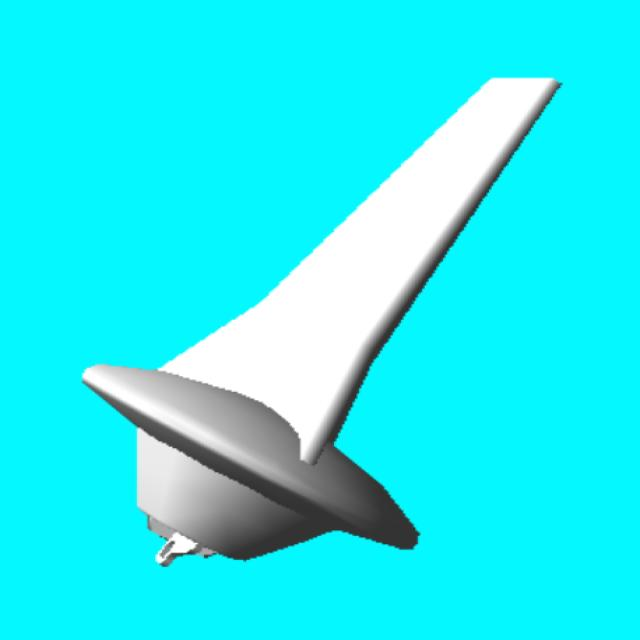WhiteBuoy: (83, 79, 559, 564)
